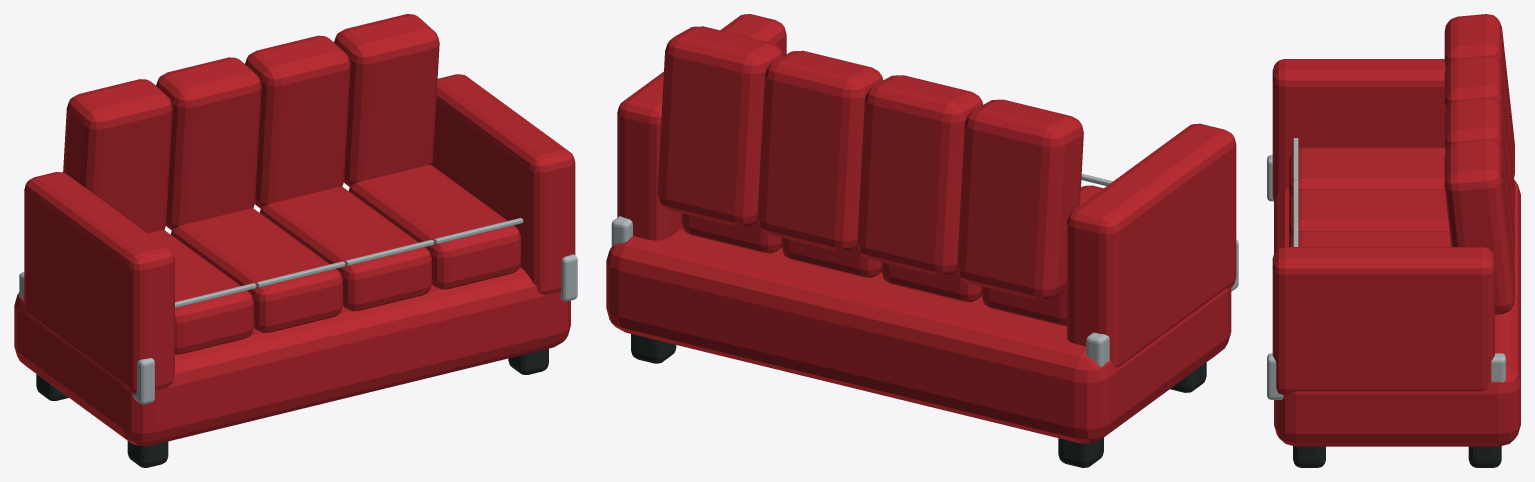
The model's file is hiperreal.glb.
The picture shows the model from 3 angles, left to right: view 1: azimuth 30°, elevation 25°; view 2: azimuth 150°, elevation 25°; view 3: azimuth 270°, elevation 25°; orthographic projection. The views are drawn at different scales.
Parts seen in each view (by area): view 1: Upholstered base, Armrest, Armrest.001, Back cushion.001, Back cushion.002, Back cushion.003, Back cushion, Seat cushion.002, Seat cushion.001, Seat cushion.003, Seat cushion, Armoured rail (+6 smaller); view 2: Upholstered base, Armrest, Back cushion, Back cushion.001, Back cushion.002, Back cushion.003, Armrest.001, Seat cushion, Seat cushion.002, Seat cushion.003, Seat cushion.001, Sofa foot (+2 smaller); view 3: Armrest.001, Upholstered base, Armrest, Back cushion.003, Seat cushion, Seat cushion.001, Back cushion, Back cushion.001, Back cushion.002, Seat cushion.002, Armoured rail.001, Sofa foot.002 (+2 smaller).
Part boxes in pixels (x1=…): Upholstered base: x1=14, y1=267, x2=570, y2=446; Armrest: x1=24, y1=172, x2=174, y2=394; Armrest.001: x1=431, y1=74, x2=575, y2=295; Back cushion.001: x1=156, y1=57, x2=261, y2=230; Back cushion.002: x1=245, y1=35, x2=350, y2=208; Back cushion.003: x1=334, y1=14, x2=439, y2=186; Back cushion: x1=63, y1=79, x2=172, y2=233; Seat cushion.002: x1=259, y1=186, x2=431, y2=311; Seat cushion.001: x1=171, y1=208, x2=342, y2=332; Seat cushion.003: x1=349, y1=165, x2=520, y2=289; Seat cushion: x1=148, y1=230, x2=254, y2=354; Armoured rail: x1=19, y1=272, x2=154, y2=404; Upholstered base: x1=606, y1=228, x2=1231, y2=443; Armrest: x1=1067, y1=123, x2=1236, y2=367; Back cushion: x1=957, y1=99, x2=1083, y2=300; Back cushion.001: x1=857, y1=75, x2=982, y2=275; Back cushion.002: x1=757, y1=50, x2=882, y2=251; Back cushion.003: x1=657, y1=26, x2=783, y2=226; Armrest.001: x1=617, y1=14, x2=786, y2=240; Seat cushion: x1=981, y1=185, x2=1103, y2=326; Seat cushion.002: x1=781, y1=238, x2=881, y2=277; Seat cushion.003: x1=681, y1=213, x2=781, y2=253; Seat cushion.001: x1=881, y1=262, x2=981, y2=302; Sofa foot: x1=1058, y1=437, x2=1103, y2=467; Armrest.001: x1=1272, y1=247, x2=1494, y2=394; Upholstered base: x1=1274, y1=180, x2=1520, y2=446; Armrest: x1=1272, y1=59, x2=1445, y2=200; Back cushion.003: x1=1444, y1=139, x2=1514, y2=314; Seat cushion: x1=1289, y1=147, x2=1445, y2=201; Seat cushion.001: x1=1289, y1=189, x2=1449, y2=243; Back cushion: x1=1444, y1=14, x2=1514, y2=177; Back cushion.001: x1=1444, y1=55, x2=1514, y2=219; Back cushion.002: x1=1444, y1=97, x2=1514, y2=260; Seat cushion.002: x1=1289, y1=231, x2=1451, y2=246; Armoured rail.001: x1=1267, y1=353, x2=1505, y2=399; Sofa foot.002: x1=1468, y1=446, x2=1501, y2=467.
Size of the model in its own units: 2 by 1.26 by 1.03.
